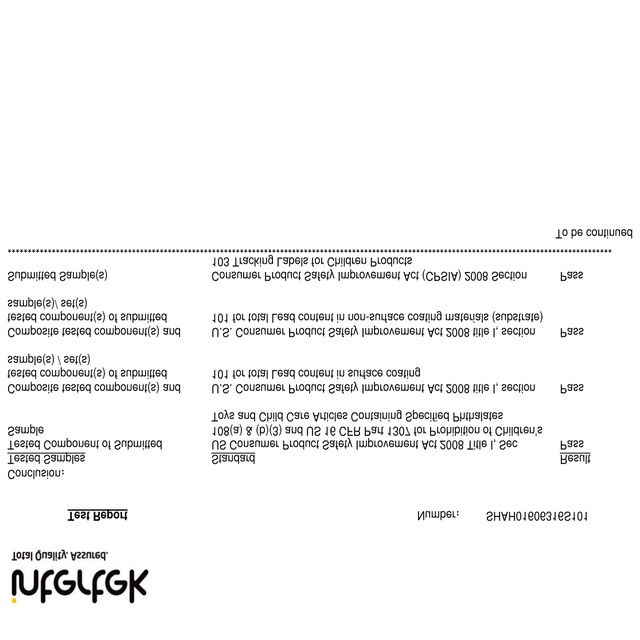intertek: (7, 561, 154, 612)
